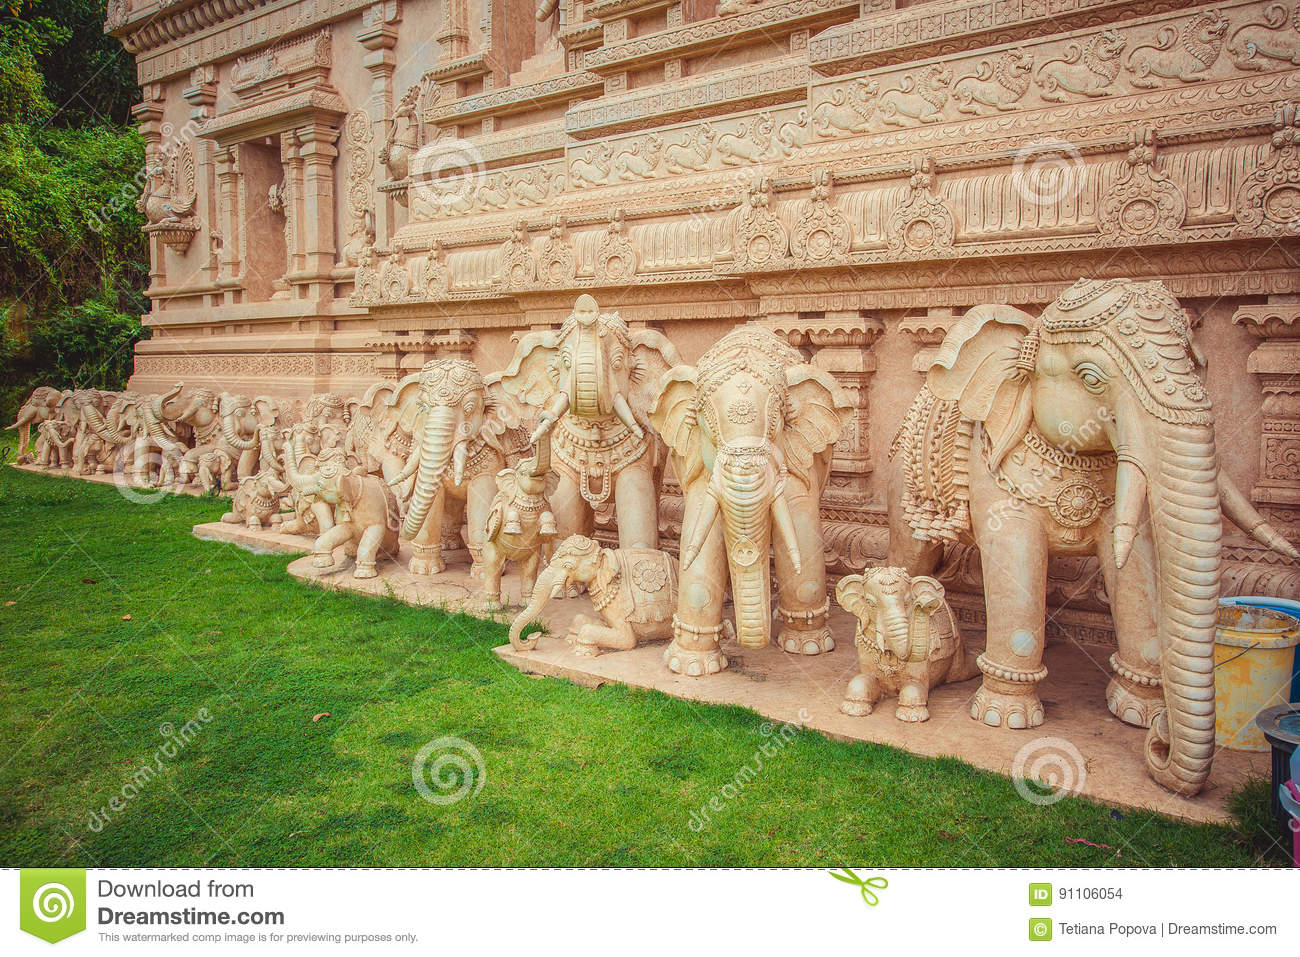Hindu Temple: (108, 5, 1259, 650)
